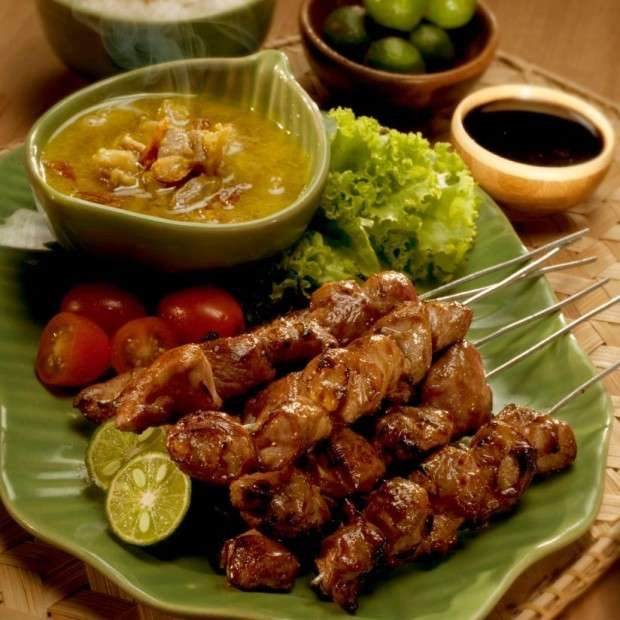sate: (220, 226, 620, 613)
